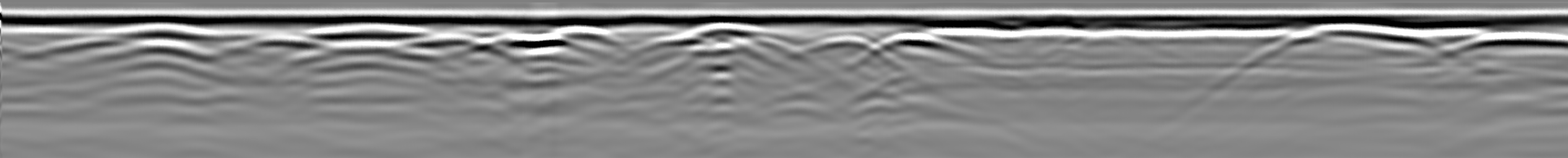pipe: (304, 19, 433, 40), (106, 16, 221, 39), (676, 20, 773, 43), (546, 21, 618, 41)
steel: (882, 30, 951, 51), (494, 36, 565, 53)
